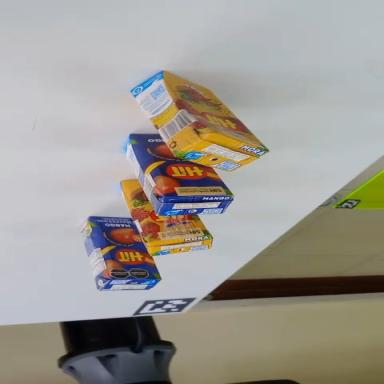HIT-MANGO: (102, 122, 241, 244), (66, 200, 164, 310)
HIT-MORA: (120, 51, 269, 200), (98, 174, 220, 278)
cara_F: (111, 121, 240, 228), (159, 56, 269, 169), (100, 172, 216, 269), (87, 200, 162, 297)
